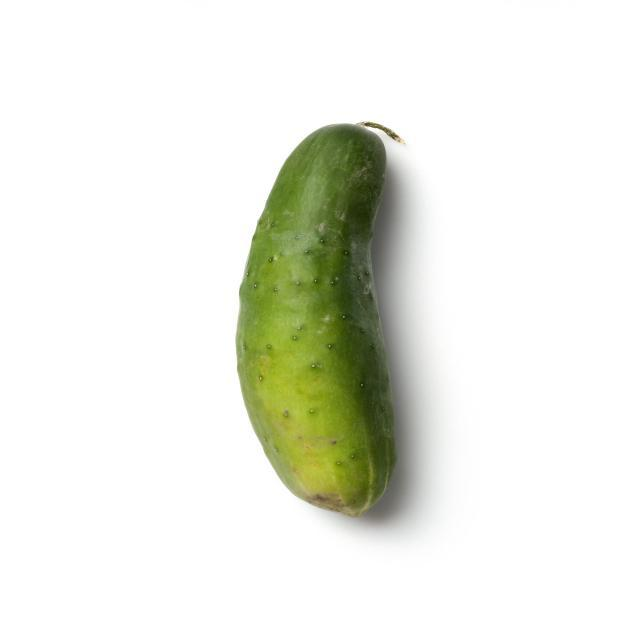cucumber: (238, 122, 398, 521)
